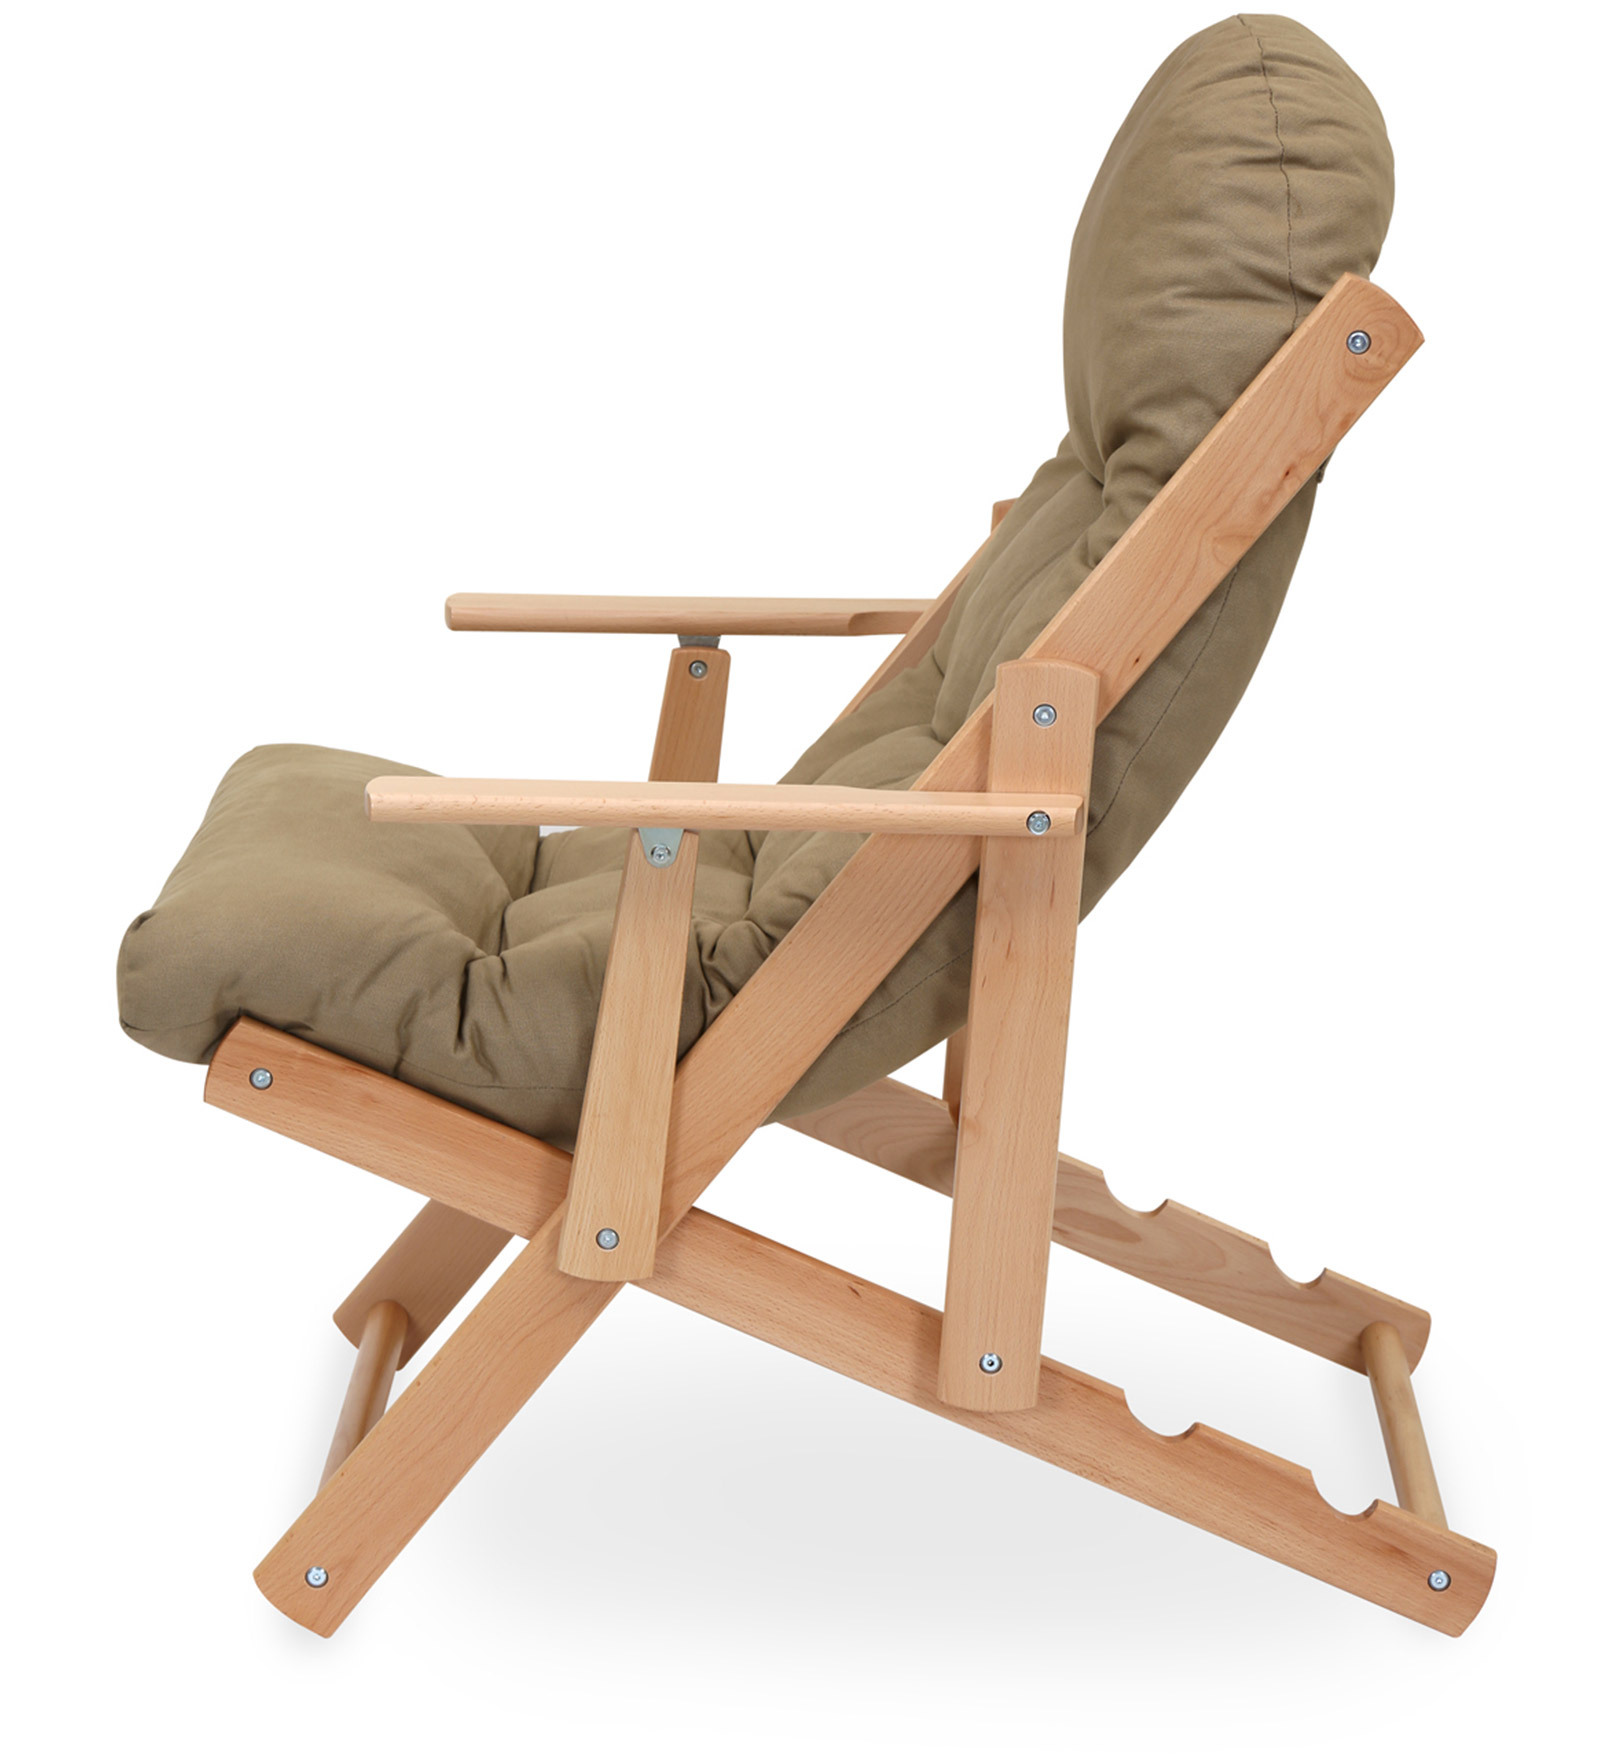Mazda Leisure Folding Chair in Light Brown Colour by @ Home: (107, 9, 1500, 1648)
